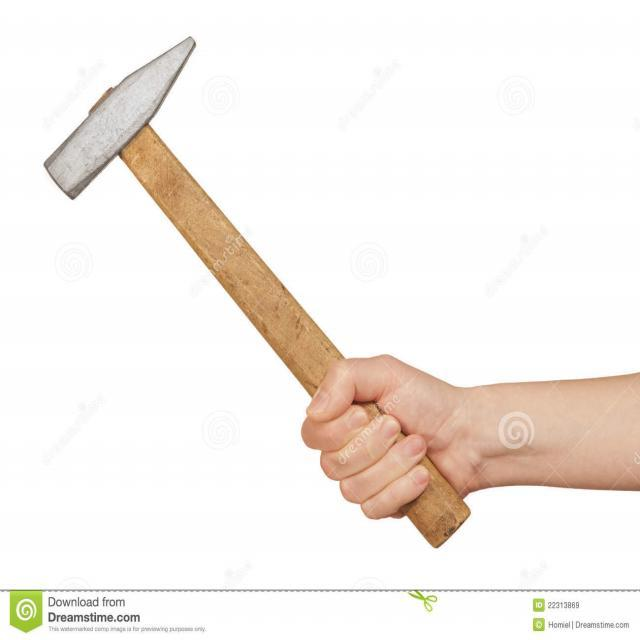hammer: (36, 29, 477, 556)
